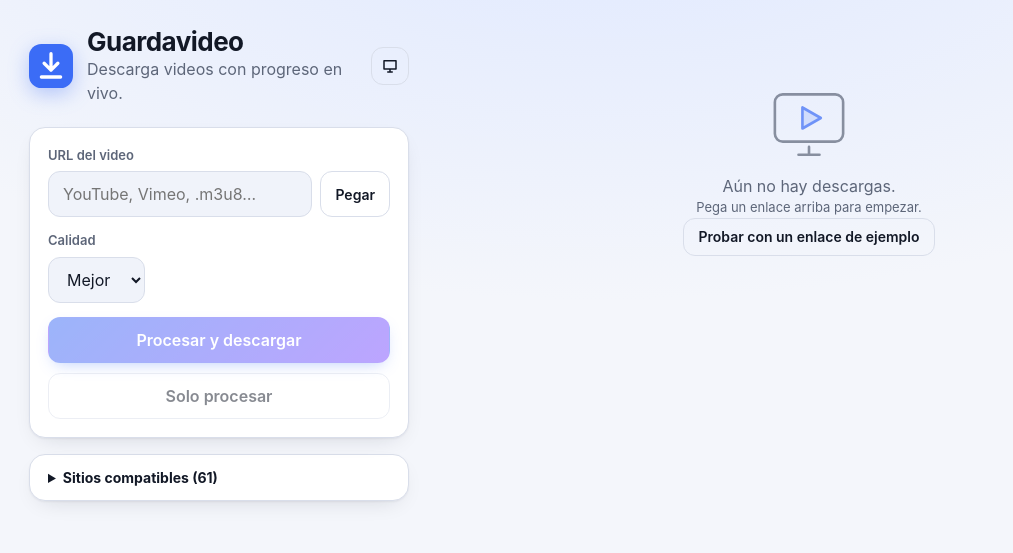
Test: App (integración con fetch simulado) › el enlace de ejemplo del estado vacío rellena el formulario
Step 1. Click the button "Probar con un enlace de ejemplo" → (809, 236), box [684,218,934,256]
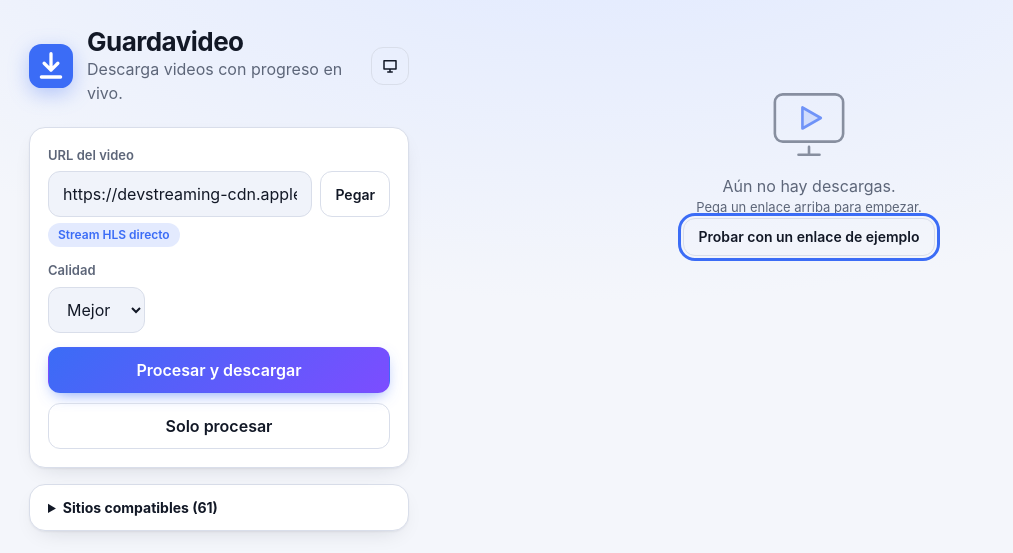
Now the text "Stream HLS directo" is shown, box [48,223,180,247]
